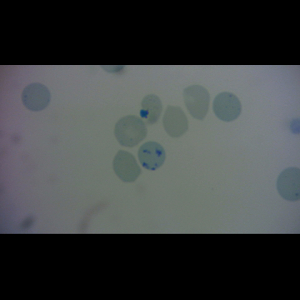erythrocyte: (182, 83, 212, 122), (112, 149, 143, 184), (161, 105, 190, 139), (139, 94, 163, 126)
punctate reticulocyte: (112, 115, 148, 148), (211, 91, 243, 123), (20, 82, 52, 113), (136, 141, 167, 172)
